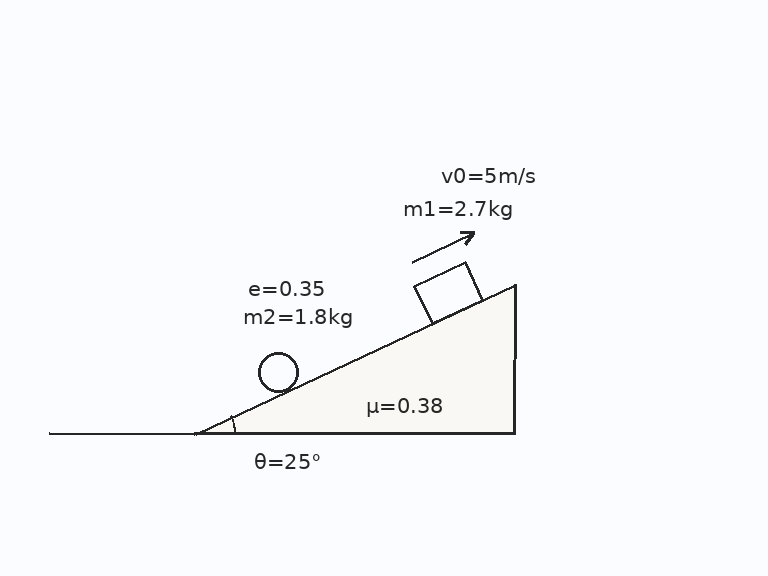ball: (256, 350, 300, 394)
block: (412, 260, 484, 325)
ramp: (193, 282, 516, 435)
